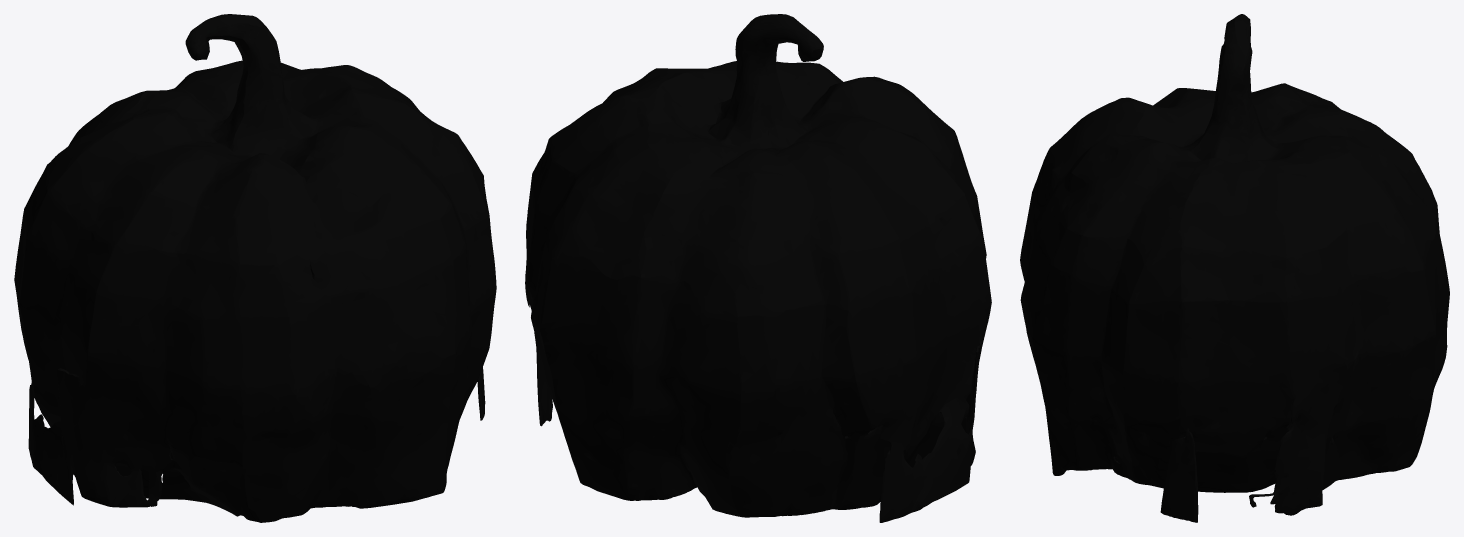
The model's file is pumpkinGibrid.fbx.
3 renders of one model, left to right at view 1: azimuth 30°, elevation 25°; view 2: azimuth 150°, elevation 25°; view 3: azimuth 270°, elevation 25°, orthographic. The views are drawn at different scales.
Parts seen in each view (by area): view 1: textured_mesh; view 2: textured_mesh; view 3: textured_mesh.
Boxes of the visible parts, x1,y1,x2,y2 form: textured_mesh: (14,14,496,522); textured_mesh: (525,14,991,522); textured_mesh: (1020,14,1449,522).
Bounding box in the file's own units: 198 × 200 × 191.
1 material, 1 textured.
